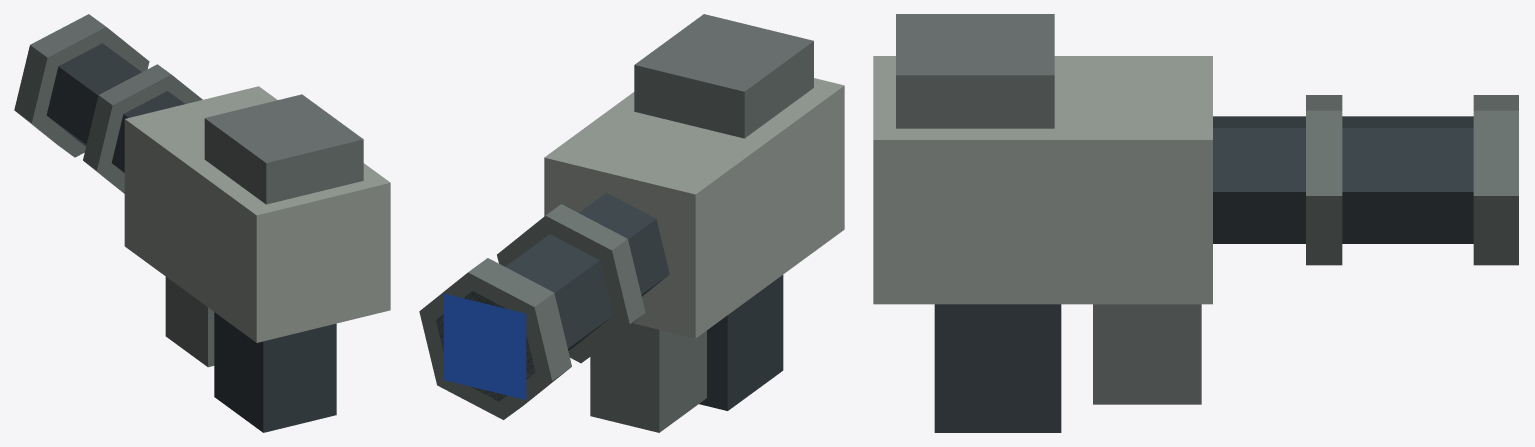
3 renders of one model, left to right at view 1: azimuth 30°, elevation 25°; view 2: azimuth 150°, elevation 25°; view 3: azimuth 270°, elevation 25°, orthographic. The views are drawn at different scales.
Parts seen in each view (by area): view 1: mount; view 2: mount; view 3: mount.
Part boxes in pixels (<box>): mount: <box>14,14,390,432</box>; mount: <box>419,14,844,432</box>; mount: <box>873,14,1518,432</box>.
Size of the model in its own units: 3.52 by 7.12 by 11.43.
